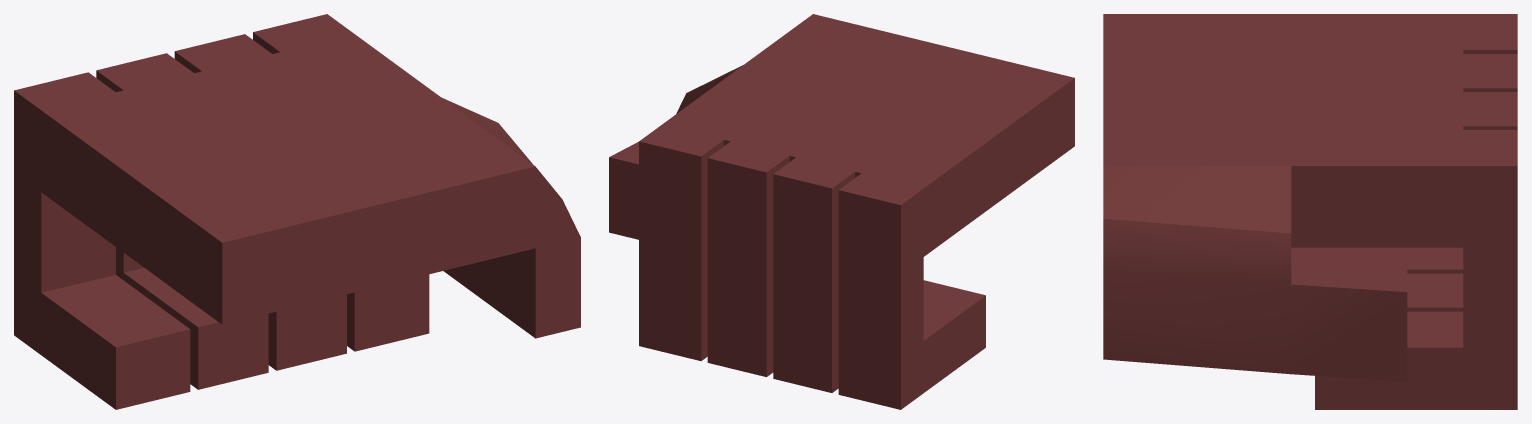
Rendered from puroto_guu.obj.
The picture shows the model from 3 angles, left to right: view 1: azimuth 30°, elevation 25°; view 2: azimuth 150°, elevation 25°; view 3: azimuth 270°, elevation 25°; orthographic projection. The views are drawn at different scales.
Parts seen in each view (by area): view 1: puroto_guu_MDL; view 2: puroto_guu_MDL; view 3: puroto_guu_MDL.
Boxes of the visible parts, bbox=[...] form: puroto_guu_MDL: bbox=[14, 14, 580, 409]; puroto_guu_MDL: bbox=[609, 14, 1074, 409]; puroto_guu_MDL: bbox=[1103, 14, 1517, 409].
Size of the model in its own units: 5.17 by 2.99 by 4.61.
1 material, 1 textured.
